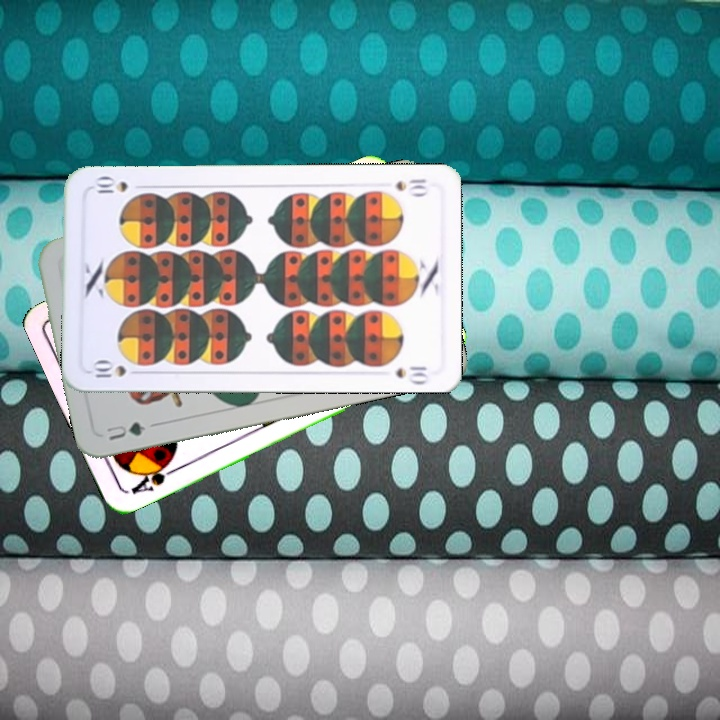GU: (102, 417, 148, 443)
S10: (88, 358, 145, 383), (391, 175, 431, 198)
SA: (126, 455, 180, 498)
